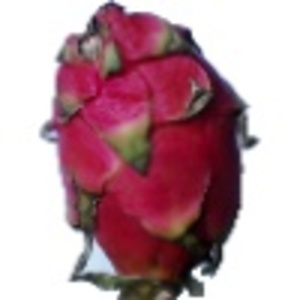pitaia: (39, 1, 260, 300)
